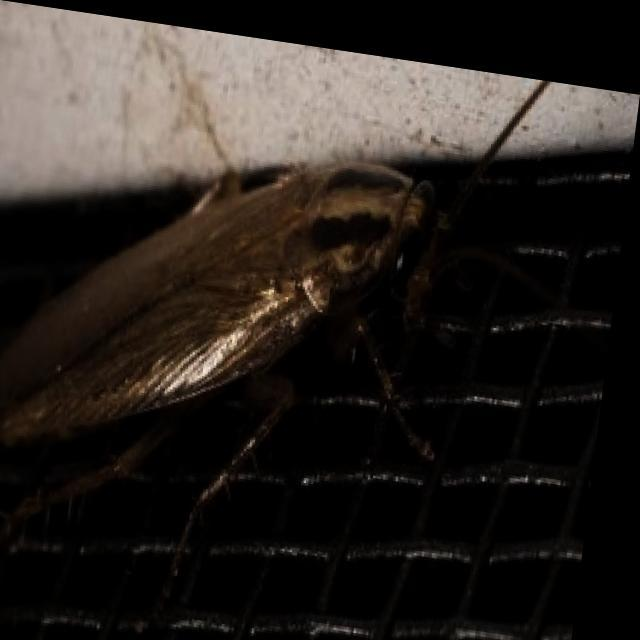cockroach: (0, 156, 433, 451)
